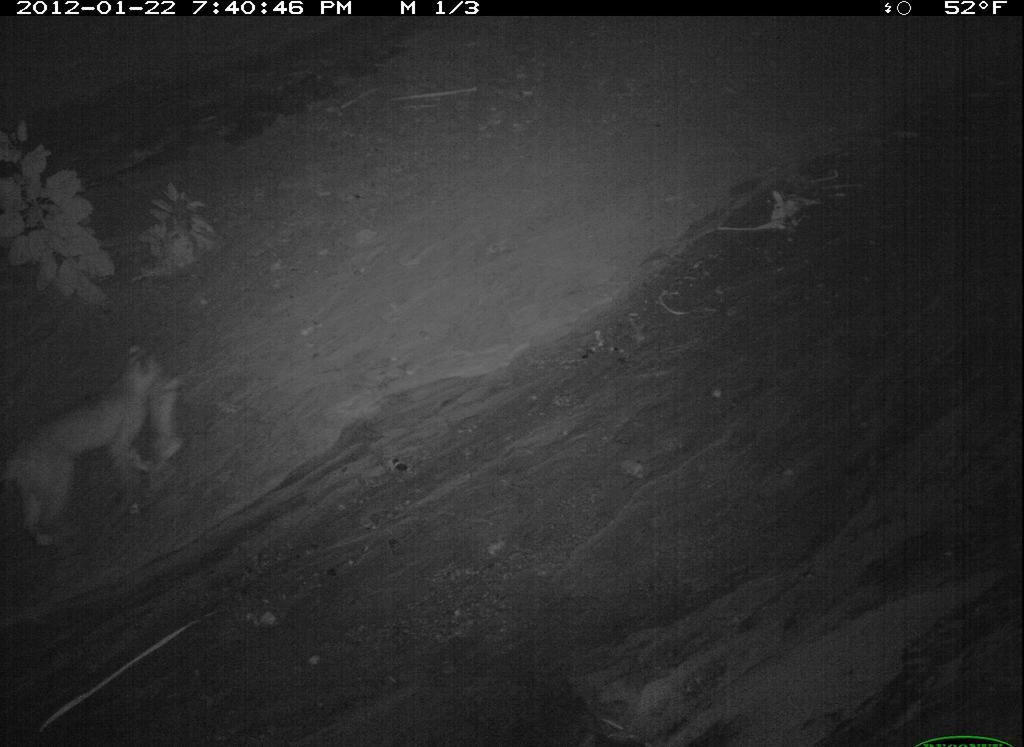bobcat: (1, 666, 351, 747)
rabbit: (284, 743, 388, 747)
